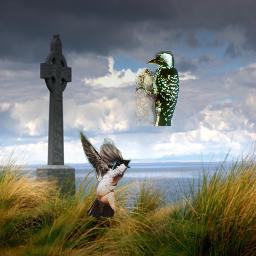Swallow: (77, 128, 131, 218)
Woodpecker: (135, 51, 179, 126)
